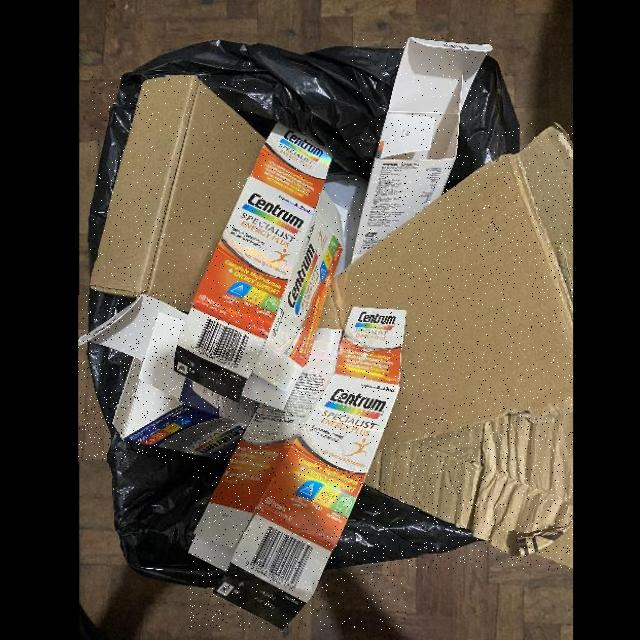paper: (319, 124, 573, 449), (189, 308, 406, 630), (174, 123, 349, 412), (91, 76, 265, 313), (365, 413, 573, 570), (351, 37, 492, 265), (79, 295, 261, 463)
